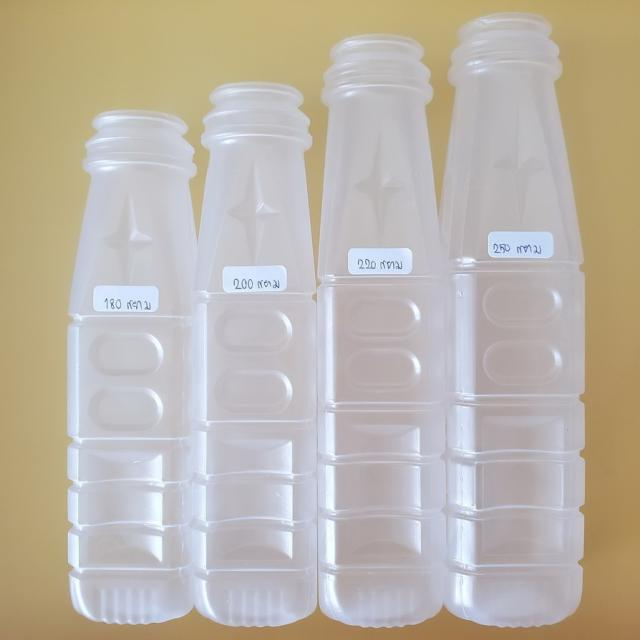Single-Use-Plastic: (441, 14, 584, 626), (318, 35, 446, 627), (194, 82, 316, 626), (68, 110, 196, 623)
